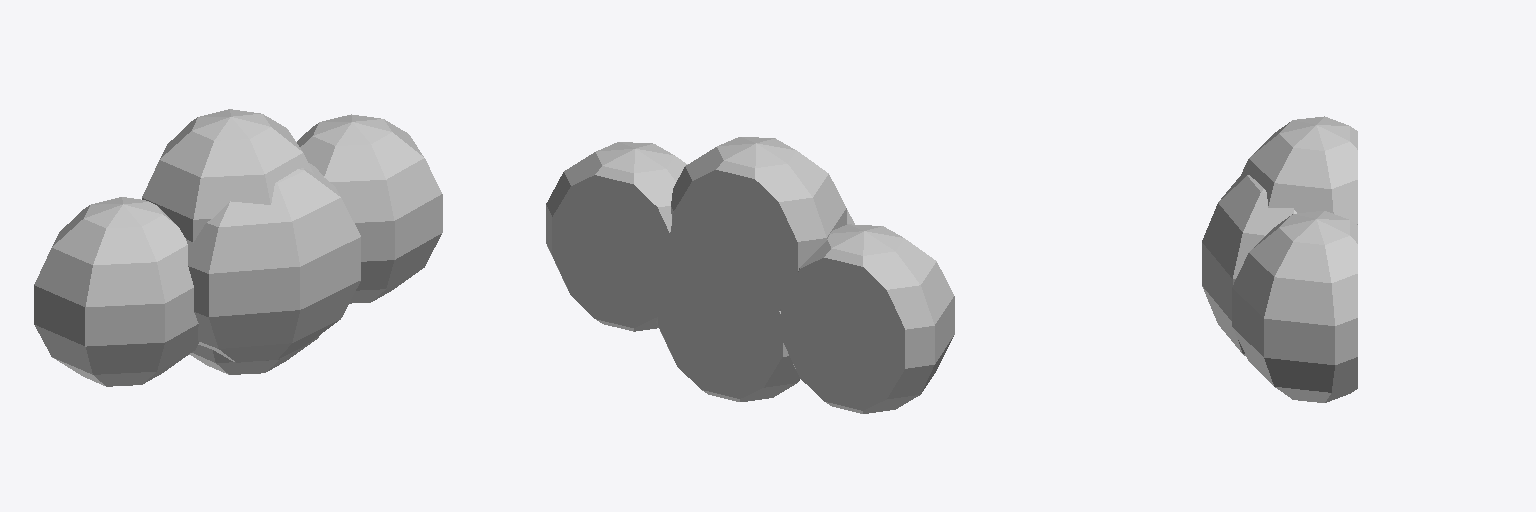
Rendered from cloud.obj.
The picture shows the model from 3 angles: view 1: azimuth 30°, elevation 25°; view 2: azimuth 150°, elevation 25°; view 3: azimuth 270°, elevation 25°; orthographic projection.
Visible parts, largest first — view 1: Sphere.002; view 2: Sphere.002; view 3: Sphere.002.
Boxes of the visible parts, x1=… form: Sphere.002: x1=34, y1=109, x2=442, y2=386; Sphere.002: x1=546, y1=137, x2=954, y2=413; Sphere.002: x1=1202, y1=116, x2=1357, y2=402.
Bounding box in the file's own units: 2.32 × 1.45 × 0.8076.